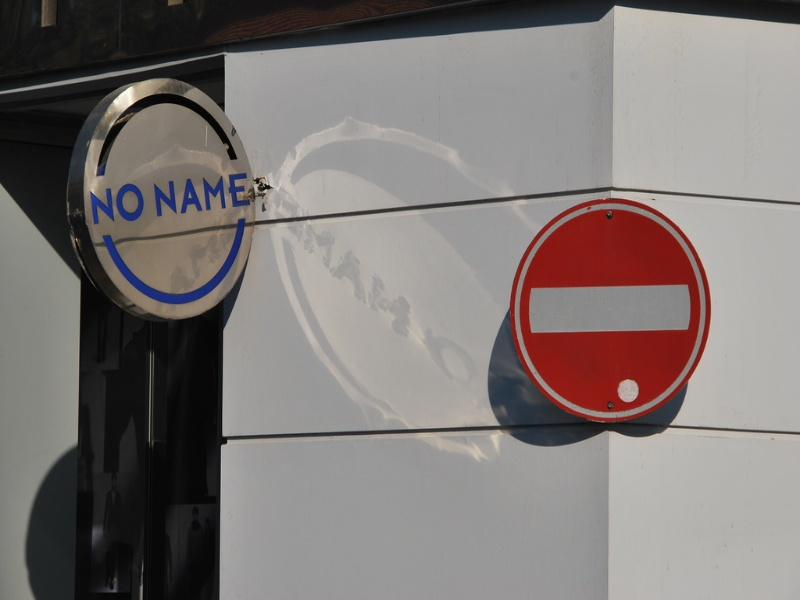no_entry: (508, 199, 713, 432)
